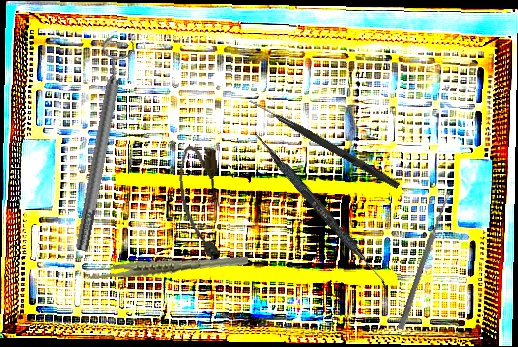Cannula: (175, 143, 228, 264)
Fixation Ring: (62, 35, 139, 254)
Hook Surgical: (246, 97, 402, 190)
Spatula Surgical: (248, 130, 394, 290)
Surgical Spoon: (397, 190, 452, 331)
Tissue Forceps: (85, 238, 249, 297)
